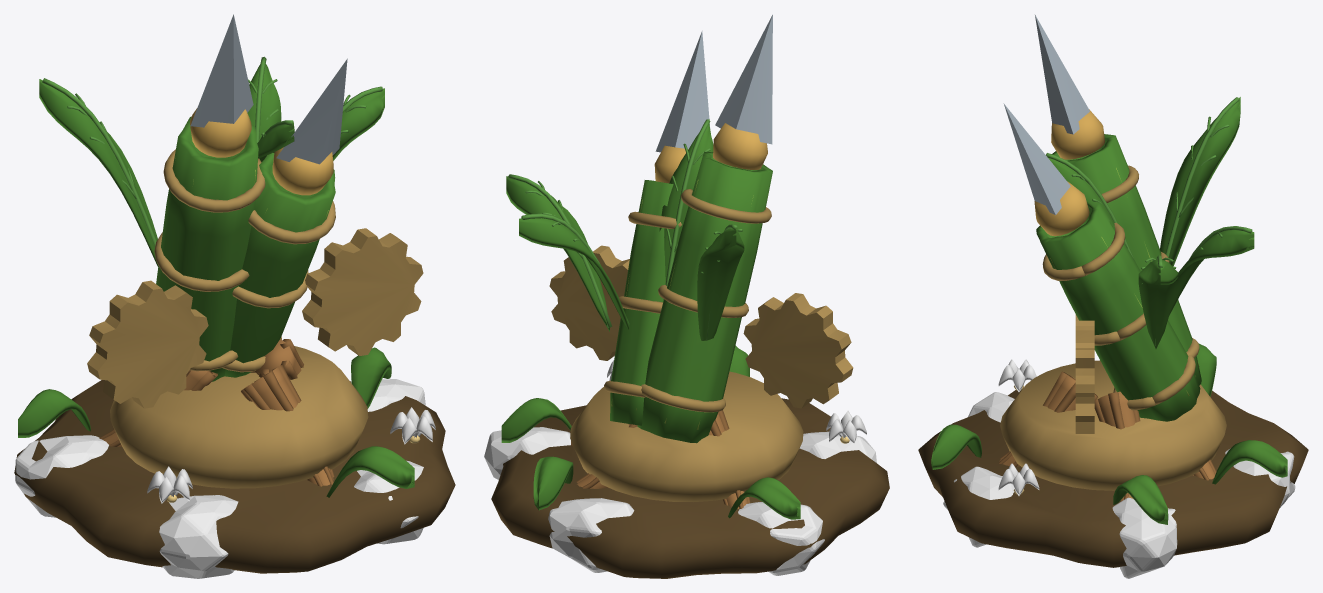
The model's file is bamboo-1.fbx.
3 views of the same model, side by side, from view 1: azimuth 30°, elevation 25°; view 2: azimuth 150°, elevation 25°; view 3: azimuth 270°, elevation 25° (orthographic). The views are drawn at different scales.
Parts seen in each view (by area): view 1: Turret_Metal, bamboo-1_Organic, Spears_PortalBamboo, Spears_Metal, bamboo-1_Stone, Petals_PortalBamboo, bamboo-1_PortalBamboo, bamboo-1_Bark, bamboo-1_Petal; view 2: Turret_Metal, bamboo-1_Organic, Spears_PortalBamboo, Spears_Metal, Petals_PortalBamboo, bamboo-1_Stone, bamboo-1_PortalBamboo, bamboo-1_Bark, bamboo-1_Petal; view 3: bamboo-1_Organic, Turret_Metal, Spears_PortalBamboo, Spears_Metal, Petals_PortalBamboo, bamboo-1_Stone, bamboo-1_PortalBamboo, bamboo-1_Bark, bamboo-1_Petal.
Boxes of the visible parts, x1=… form: Turret_Metal: x1=87, y1=228, x2=423, y2=488; bamboo-1_Organic: x1=14, y1=380, x2=455, y2=573; Spears_PortalBamboo: x1=156, y1=116, x2=335, y2=381; Spears_Metal: x1=154, y1=14, x2=347, y2=372; bamboo-1_Stone: x1=15, y1=379, x2=425, y2=578; Petals_PortalBamboo: x1=39, y1=56, x2=384, y2=266; bamboo-1_PortalBamboo: x1=18, y1=347, x2=414, y2=497; bamboo-1_Bark: x1=99, y1=339, x2=334, y2=486; bamboo-1_Petal: x1=147, y1=407, x2=435, y2=503; Turret_Metal: x1=549, y1=245, x2=853, y2=501; bamboo-1_Organic: x1=491, y1=398, x2=889, y2=578; Spears_PortalBamboo: x1=610, y1=151, x2=772, y2=443; Spears_Metal: x1=604, y1=14, x2=772, y2=412; Petals_PortalBamboo: x1=506, y1=119, x2=744, y2=340; bamboo-1_Stone: x1=484, y1=427, x2=876, y2=575; bamboo-1_PortalBamboo: x1=501, y1=345, x2=800, y2=519; bamboo-1_Bark: x1=571, y1=410, x2=750, y2=508; bamboo-1_Petal: x1=607, y1=360, x2=866, y2=444; bamboo-1_Organic: x1=918, y1=385, x2=1308, y2=567; Turret_Metal: x1=1000, y1=314, x2=1226, y2=490; Spears_PortalBamboo: x1=1036, y1=134, x2=1201, y2=421; Spears_Metal: x1=1003, y1=15, x2=1199, y2=410; Petals_PortalBamboo: x1=1046, y1=97, x2=1254, y2=348; bamboo-1_Stone: x1=943, y1=392, x2=1295, y2=578; bamboo-1_PortalBamboo: x1=931, y1=343, x2=1287, y2=524; bamboo-1_Bark: x1=999, y1=371, x2=1216, y2=501; bamboo-1_Petal: x1=998, y1=359, x2=1039, y2=495.
Size of the model in its own units: 82.07 by 110 by 82.7.
